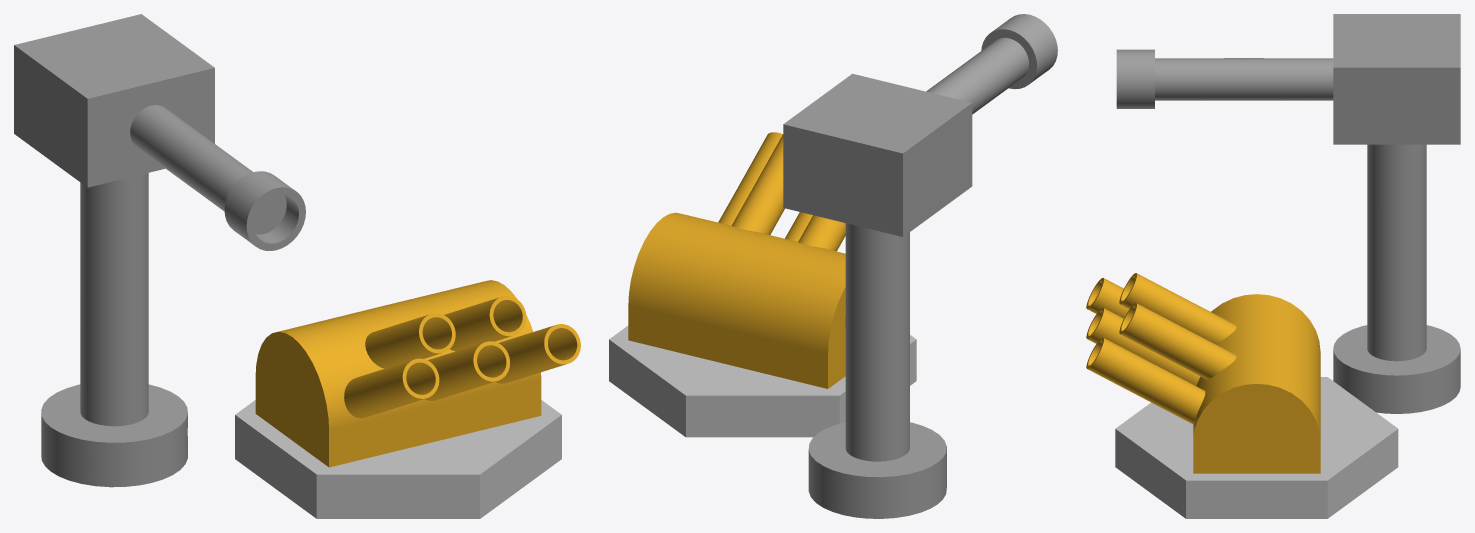
File: GrenadeTurrets.fbx
3 views of the same model, side by side, from view 1: azimuth 30°, elevation 25°; view 2: azimuth 150°, elevation 25°; view 3: azimuth 270°, elevation 25° (orthographic). The views are drawn at different scales.
Visible parts, largest first — view 1: Body1, Body3, Body2; view 2: Body1, Body3, Body2; view 3: Body1, Body3, Body2.
Boxes of the visible parts, bbox=[...] form: Body1: bbox=[14, 14, 305, 487]; Body3: bbox=[255, 280, 580, 467]; Body2: bbox=[235, 400, 561, 518]; Body1: bbox=[783, 14, 1057, 518]; Body3: bbox=[628, 132, 845, 388]; Body2: bbox=[609, 325, 916, 437]; Body1: bbox=[1116, 14, 1460, 413]; Body3: bbox=[1086, 273, 1320, 473]; Body2: bbox=[1115, 377, 1398, 518].
Bounding box in the file's own units: 2751 × 2700 × 2645.
